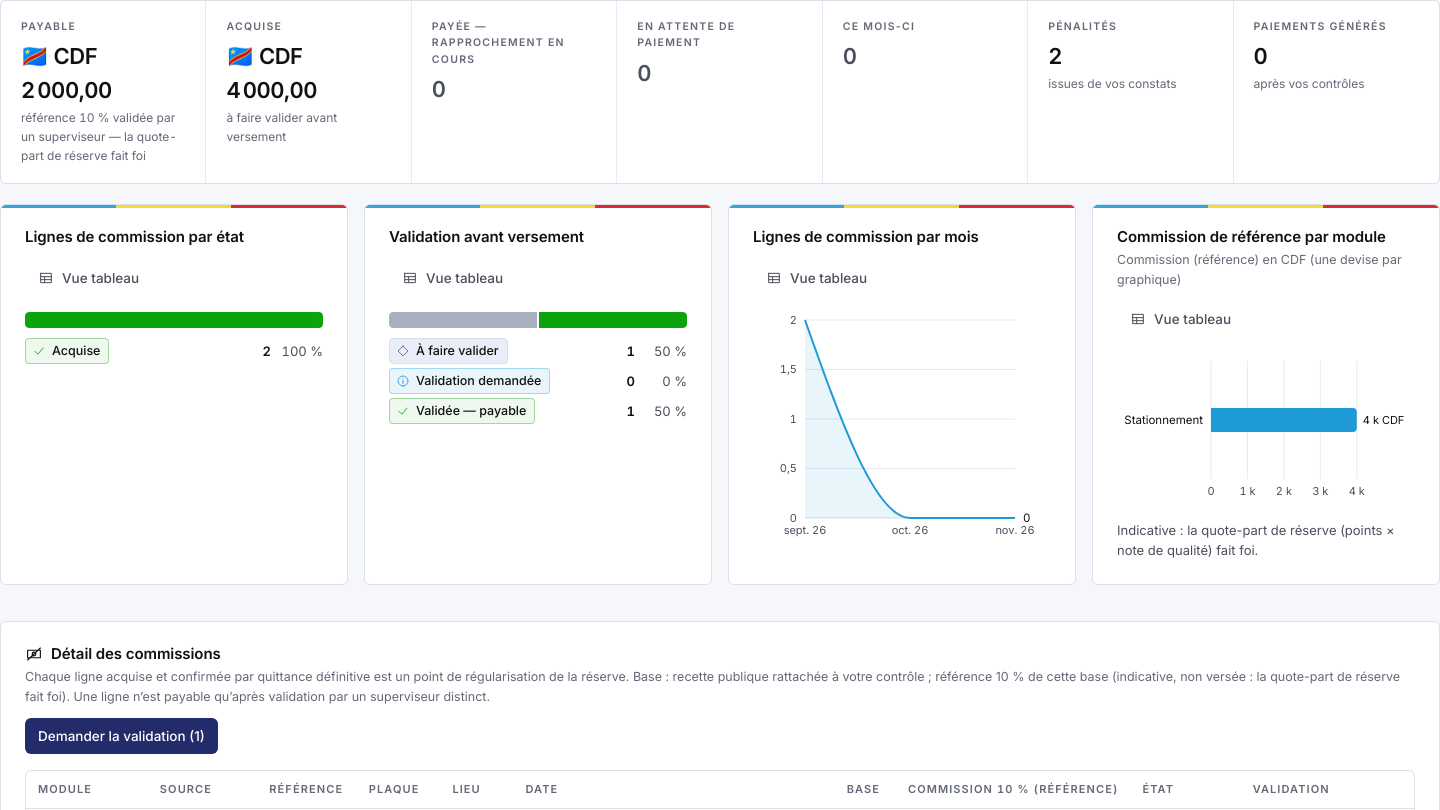
it: Commissions : file de validation (superviseur distinct) et demande par l’agent › « Mes gains » : montant payable, état de validation par ligne, demande de validation
This screenshot has width=1440, height=810.
Expected: the text "Validée — payable" is shown, [416,402,526,422]
Expected: the text "À faire valider" is shown, [416,342,499,362]
Step 1. Click the button "Demander la validation (1)" → [121, 736], box [25,718,218,754]
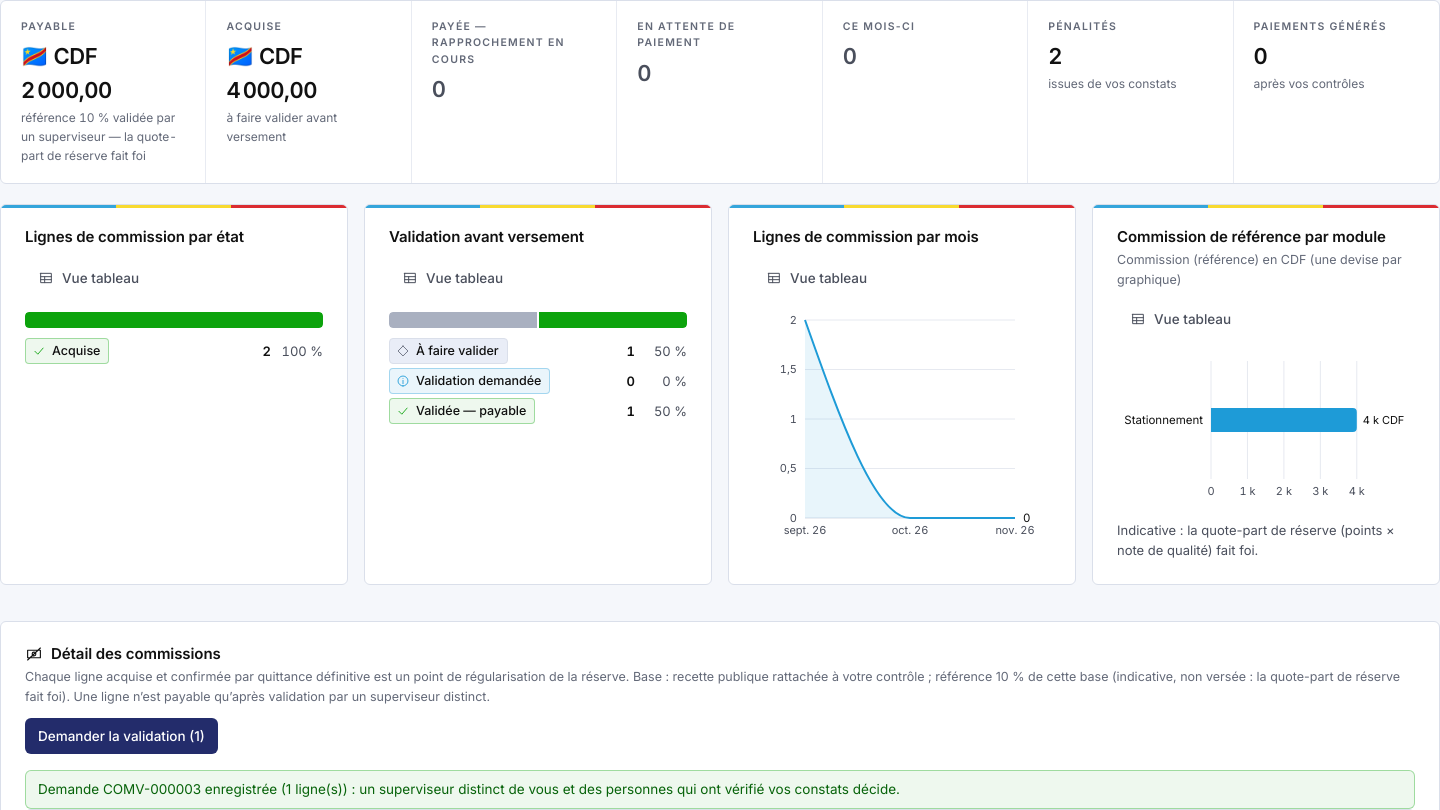
Result: the text "COMV-000003 enregistrée" is shown at [38,781,900,797]
